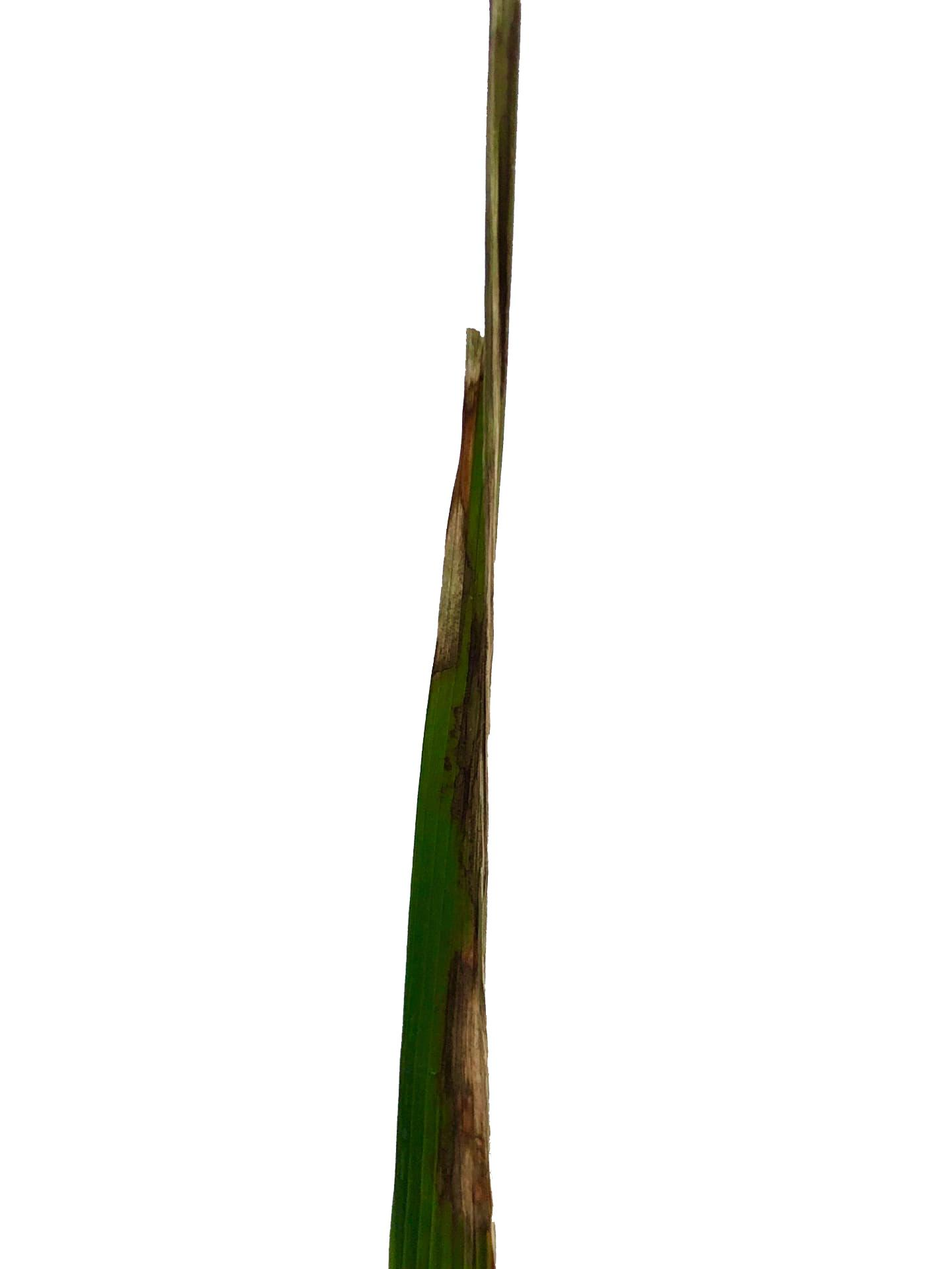Blight: (433, 406, 502, 853), (453, 892, 506, 1269)
